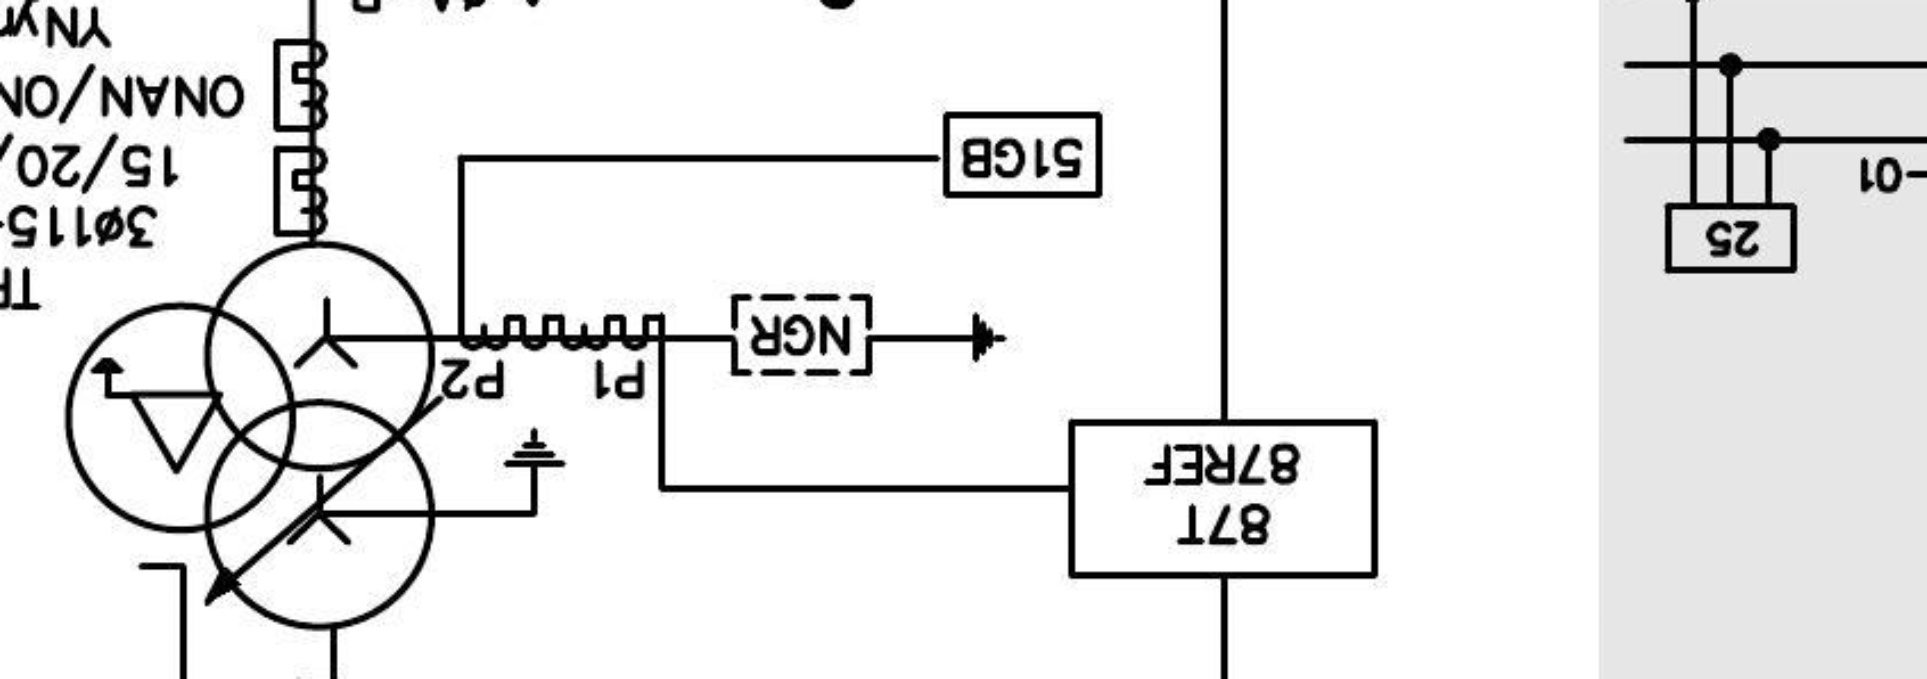11522_tx_ynyn0d1: (62, 238, 437, 633)
NGR_future: (729, 292, 1008, 377)
